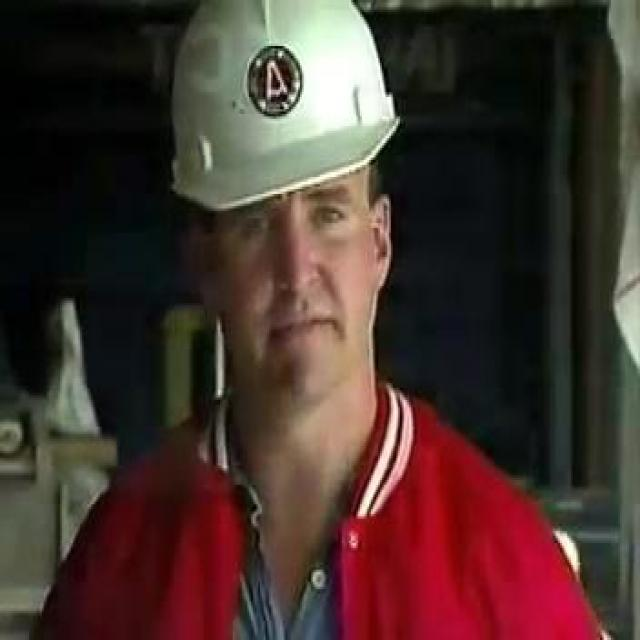Reflective-Jacket: (27, 371, 624, 635)
Safety-Helmet: (160, 4, 413, 220)
